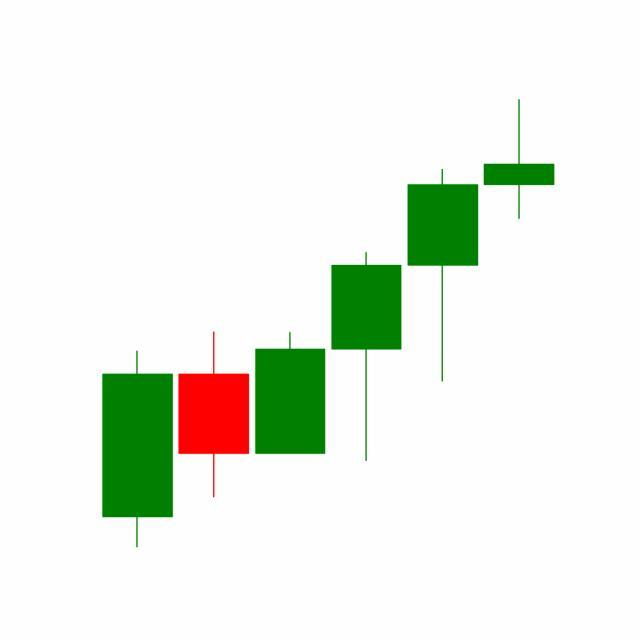Hanging Man: (404, 167, 482, 385)
